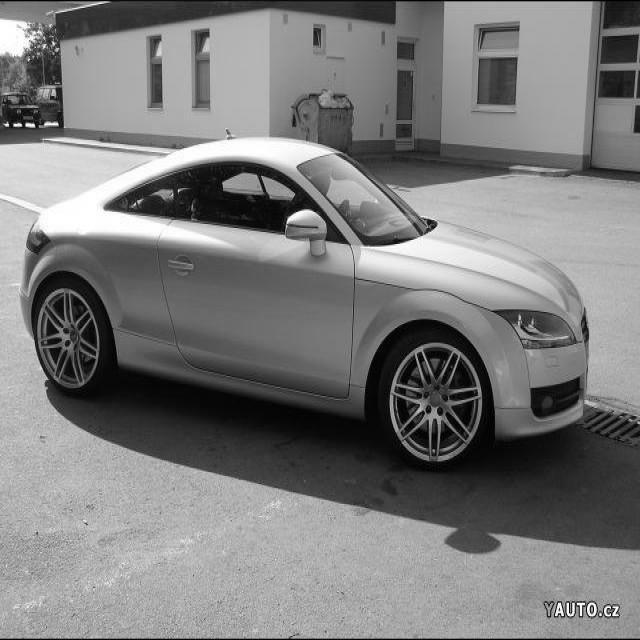Sedan: (19, 130, 588, 471)
